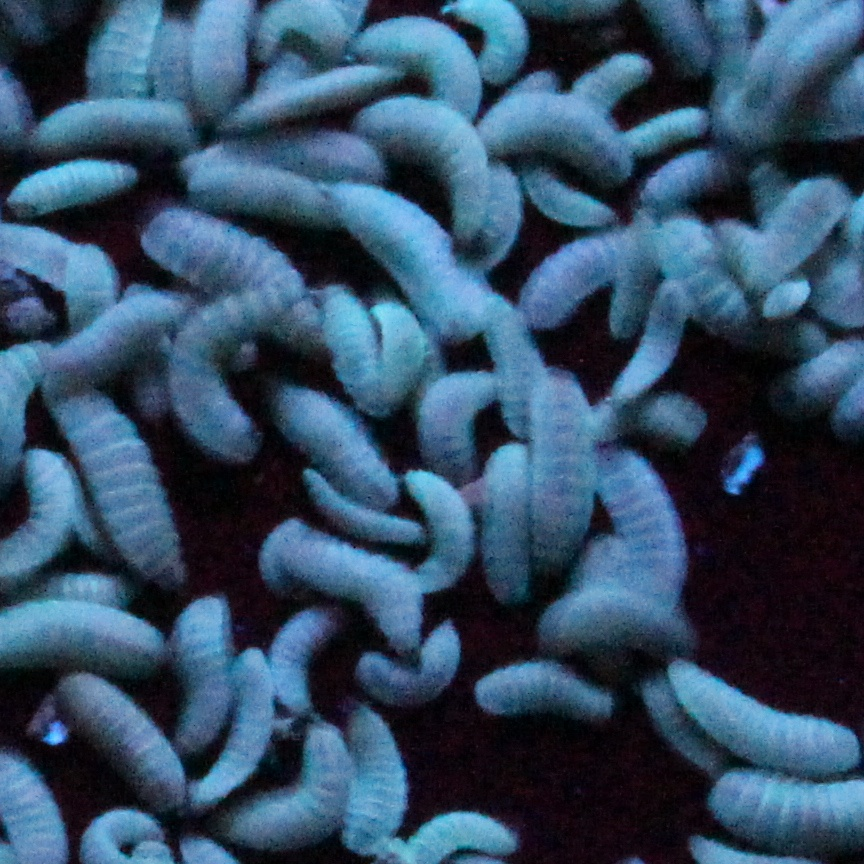larve: (328, 183, 504, 336), (49, 391, 185, 587), (168, 283, 304, 459), (668, 652, 862, 774), (273, 535, 431, 666), (266, 383, 406, 512), (37, 291, 189, 395), (66, 672, 185, 801), (233, 720, 345, 845), (480, 98, 630, 185), (526, 374, 585, 572), (747, 176, 845, 289), (543, 591, 706, 654), (319, 279, 397, 410), (342, 704, 411, 850), (524, 227, 619, 328), (35, 95, 189, 153), (473, 662, 616, 722), (174, 591, 226, 751), (400, 476, 471, 593), (12, 160, 142, 219), (618, 287, 685, 399)
